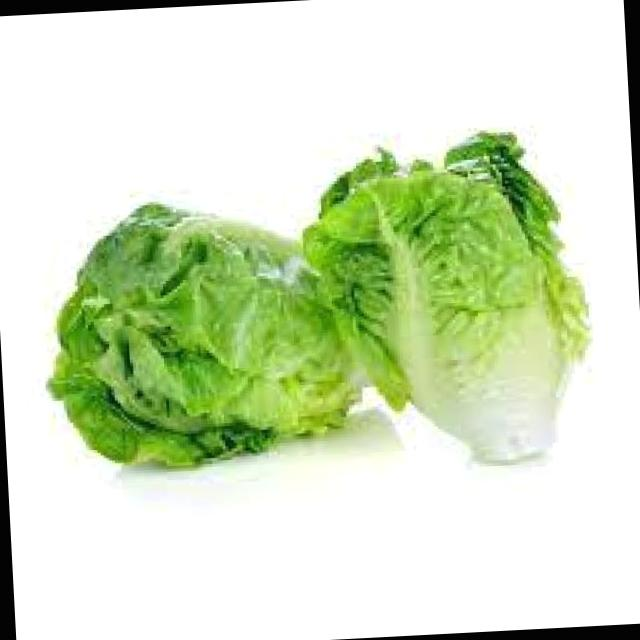Lettuce-Ready-to-Harvest: (304, 133, 587, 462), (49, 204, 354, 466)
